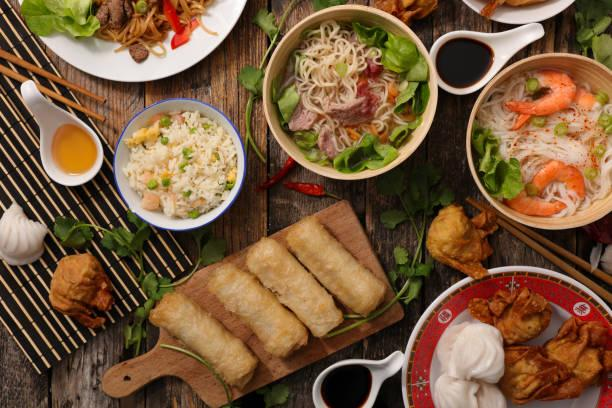Braised Crucian Carp: (102, 197, 399, 406), (261, 5, 433, 182), (401, 267, 608, 406), (466, 52, 608, 228), (113, 98, 244, 230)
